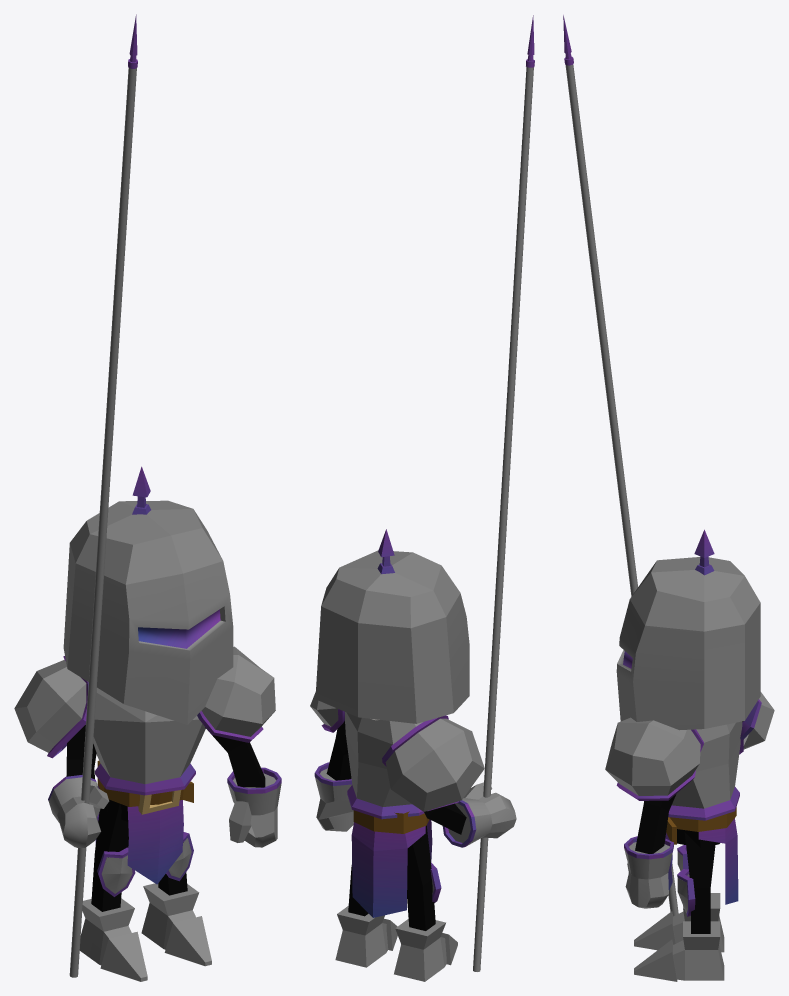
Rendered from spearman2.glb.
3 renders of one model, left to right at view 1: azimuth 30°, elevation 25°; view 2: azimuth 150°, elevation 25°; view 3: azimuth 270°, elevation 25°, orthographic. The views are drawn at different scales.
Visible parts, largest first — view 1: Soldier_33_Gold_01_Mat_0.001; view 2: Soldier_33_Gold_01_Mat_0.001; view 3: Soldier_33_Gold_01_Mat_0.001.
Boxes of the visible parts, x1,y1,x2,y2 form: Soldier_33_Gold_01_Mat_0.001: (14, 14, 281, 981); Soldier_33_Gold_01_Mat_0.001: (310, 15, 534, 981); Soldier_33_Gold_01_Mat_0.001: (563, 15, 774, 981).
Bounding box in the file's own units: 0.9483 × 4.23 × 0.8897.
1 material, 1 textured.
